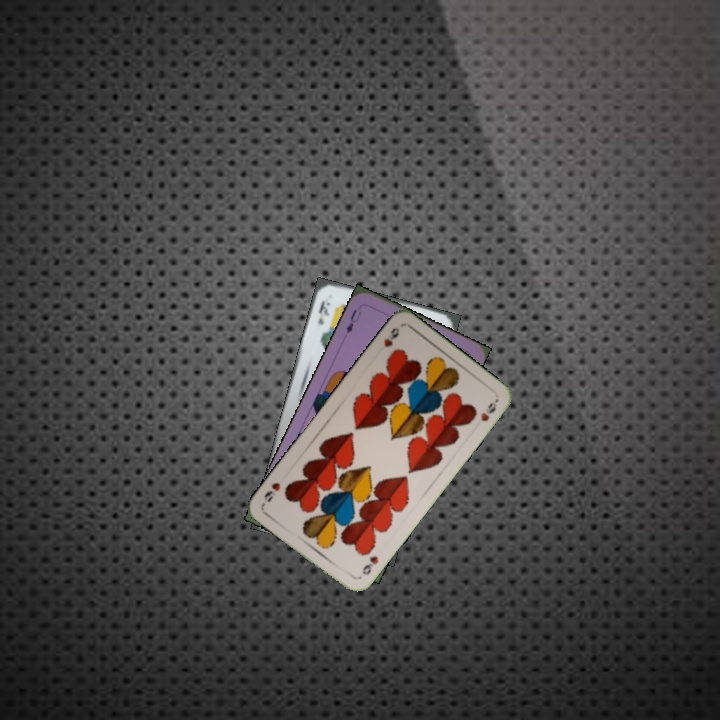EK: (314, 296, 333, 327)
EU: (342, 305, 364, 336)
H9: (358, 552, 381, 578), (380, 323, 402, 350)
